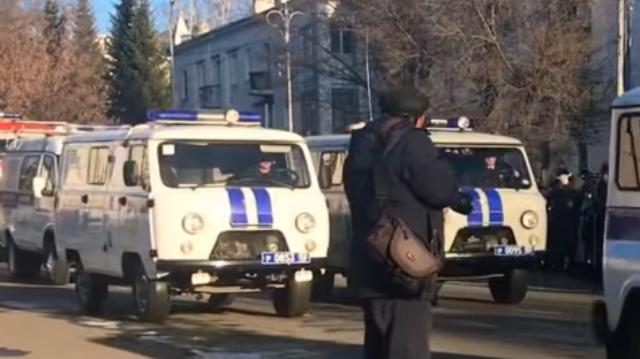police car: (58, 107, 323, 322), (323, 118, 550, 307)
